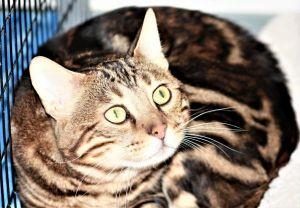bengal: (24, 6, 210, 182)
